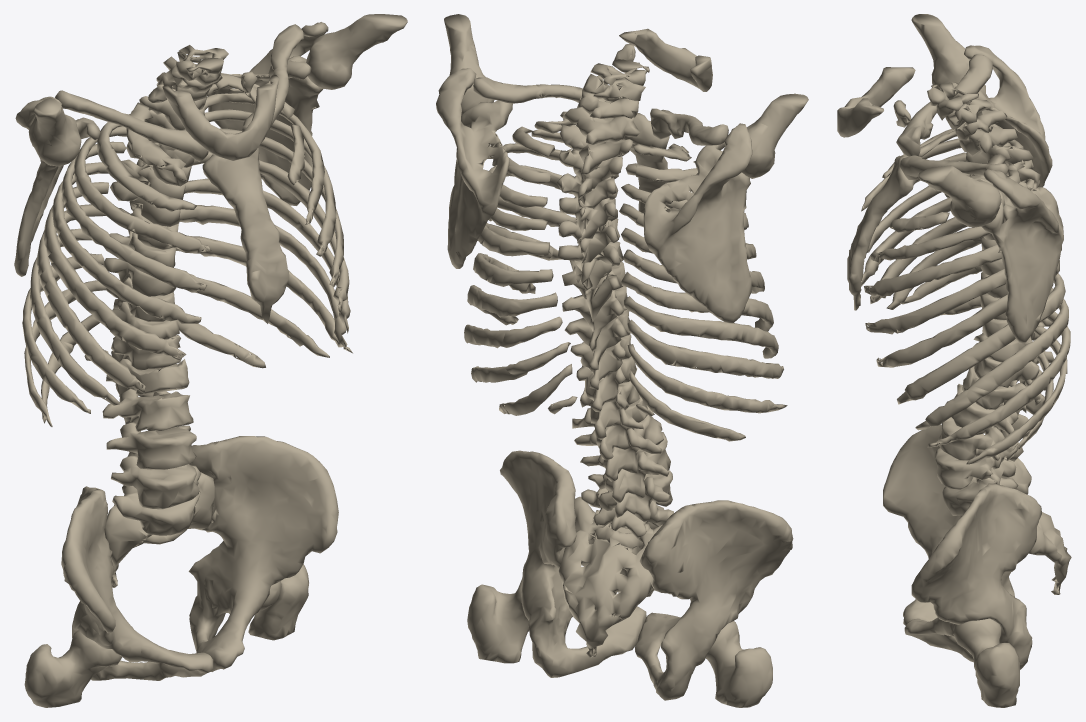
Rendered from tsd_s0196_older_adult_female.skeletal.LOD3.glb.
3 renders of one model, left to right at view 1: azimuth 30°, elevation 25°; view 2: azimuth 150°, elevation 25°; view 3: azimuth 270°, elevation 25°, orthographic. The views are drawn at different scales.
Visible parts, largest first — view 1: TSD_S0196.OLDER_ADULT.FEMALE.SKELETAL.HIP_BONE_OS_COXAE.L, TSD_S0196.OLDER_ADULT.FEMALE.SKELETAL.HIP_BONE_OS_COXAE.R, TSD_S0196.OLDER_ADULT.FEMALE.SKELETAL.STERNUM, TSD_S0196.OLDER_ADULT.FEMALE.SKELETAL.SCAPULA.L, TSD_S0196.OLDER_ADULT.FEMALE.SKELETAL.FEMUR.R, TSD_S0196.OLDER_ADULT.FEMALE.SKELETAL.SKULL, TSD_S0196.OLDER_ADULT.FEMALE.SKELETAL.HUMERUS.L, TSD_S0196.OLDER_ADULT.FEMALE.SKELETAL.RIB_6.R, TSD_S0196.OLDER_ADULT.FEMALE.SKELETAL.RIB_5.R, TSD_S0196.OLDER_ADULT.FEMALE.SKELETAL.RIB_7.R, TSD_S0196.OLDER_ADULT.FEMALE.SKELETAL.RIB_4.R, TSD_S0196.OLDER_ADULT.FEMALE.SKELETAL.SCAPULA.R (+37 smaller); view 2: TSD_S0196.OLDER_ADULT.FEMALE.SKELETAL.HIP_BONE_OS_COXAE.R, TSD_S0196.OLDER_ADULT.FEMALE.SKELETAL.SCAPULA.R, TSD_S0196.OLDER_ADULT.FEMALE.SKELETAL.HIP_BONE_OS_COXAE.L, TSD_S0196.OLDER_ADULT.FEMALE.SKELETAL.SCAPULA.L, TSD_S0196.OLDER_ADULT.FEMALE.SKELETAL.SACRUM, TSD_S0196.OLDER_ADULT.FEMALE.SKELETAL.FEMUR.L, TSD_S0196.OLDER_ADULT.FEMALE.SKELETAL.FEMUR.R, TSD_S0196.OLDER_ADULT.FEMALE.SKELETAL.SKULL, TSD_S0196.OLDER_ADULT.FEMALE.SKELETAL.RIB_8.R, TSD_S0196.OLDER_ADULT.FEMALE.SKELETAL.RIB_9.R, TSD_S0196.OLDER_ADULT.FEMALE.SKELETAL.HUMERUS.R, TSD_S0196.OLDER_ADULT.FEMALE.SKELETAL.RIB_10.R (+41 smaller); view 3: TSD_S0196.OLDER_ADULT.FEMALE.SKELETAL.HIP_BONE_OS_COXAE.L, TSD_S0196.OLDER_ADULT.FEMALE.SKELETAL.SCAPULA.L, TSD_S0196.OLDER_ADULT.FEMALE.SKELETAL.HIP_BONE_OS_COXAE.R, TSD_S0196.OLDER_ADULT.FEMALE.SKELETAL.SCAPULA.R, TSD_S0196.OLDER_ADULT.FEMALE.SKELETAL.FEMUR.L, TSD_S0196.OLDER_ADULT.FEMALE.SKELETAL.RIB_8.L, TSD_S0196.OLDER_ADULT.FEMALE.SKELETAL.HUMERUS.L, TSD_S0196.OLDER_ADULT.FEMALE.SKELETAL.RIB_7.L, TSD_S0196.OLDER_ADULT.FEMALE.SKELETAL.STERNUM, TSD_S0196.OLDER_ADULT.FEMALE.SKELETAL.SKULL, TSD_S0196.OLDER_ADULT.FEMALE.SKELETAL.RIB_9.L, TSD_S0196.OLDER_ADULT.FEMALE.SKELETAL.HUMERUS.R (+29 smaller).
Part boxes in pixels (box(x1,y1,x2,y2)): TSD_S0196.OLDER_ADULT.FEMALE.SKELETAL.HIP_BONE_OS_COXAE.L: box(188, 436, 338, 671); TSD_S0196.OLDER_ADULT.FEMALE.SKELETAL.HIP_BONE_OS_COXAE.R: box(61, 486, 213, 680); TSD_S0196.OLDER_ADULT.FEMALE.SKELETAL.STERNUM: box(202, 148, 289, 323); TSD_S0196.OLDER_ADULT.FEMALE.SKELETAL.SCAPULA.L: box(208, 22, 328, 205); TSD_S0196.OLDER_ADULT.FEMALE.SKELETAL.FEMUR.R: box(24, 630, 122, 707); TSD_S0196.OLDER_ADULT.FEMALE.SKELETAL.SKULL: box(162, 71, 279, 160); TSD_S0196.OLDER_ADULT.FEMALE.SKELETAL.HUMERUS.L: box(306, 14, 407, 89); TSD_S0196.OLDER_ADULT.FEMALE.SKELETAL.RIB_6.R: box(44, 182, 186, 359); TSD_S0196.OLDER_ADULT.FEMALE.SKELETAL.RIB_5.R: box(52, 162, 201, 323); TSD_S0196.OLDER_ADULT.FEMALE.SKELETAL.RIB_7.R: box(36, 204, 145, 393); TSD_S0196.OLDER_ADULT.FEMALE.SKELETAL.RIB_4.R: box(61, 141, 206, 291); TSD_S0196.OLDER_ADULT.FEMALE.SKELETAL.SCAPULA.R: box(14, 96, 100, 276); TSD_S0196.OLDER_ADULT.FEMALE.SKELETAL.HIP_BONE_OS_COXAE.R: box(634, 500, 793, 700); TSD_S0196.OLDER_ADULT.FEMALE.SKELETAL.SCAPULA.R: box(643, 123, 752, 323); TSD_S0196.OLDER_ADULT.FEMALE.SKELETAL.HIP_BONE_OS_COXAE.L: box(500, 450, 646, 677); TSD_S0196.OLDER_ADULT.FEMALE.SKELETAL.SCAPULA.L: box(436, 68, 512, 268); TSD_S0196.OLDER_ADULT.FEMALE.SKELETAL.SACRUM: box(558, 496, 662, 657); TSD_S0196.OLDER_ADULT.FEMALE.SKELETAL.FEMUR.L: box(467, 578, 529, 663); TSD_S0196.OLDER_ADULT.FEMALE.SKELETAL.FEMUR.R: box(705, 621, 772, 707); TSD_S0196.OLDER_ADULT.FEMALE.SKELETAL.SKULL: box(614, 28, 712, 91); TSD_S0196.OLDER_ADULT.FEMALE.SKELETAL.RIB_8.R: box(623, 296, 778, 358); TSD_S0196.OLDER_ADULT.FEMALE.SKELETAL.RIB_9.R: box(627, 319, 783, 378); TSD_S0196.OLDER_ADULT.FEMALE.SKELETAL.HUMERUS.R: box(742, 93, 808, 178); TSD_S0196.OLDER_ADULT.FEMALE.SKELETAL.RIB_10.R: box(627, 344, 787, 413); TSD_S0196.OLDER_ADULT.FEMALE.SKELETAL.HIP_BONE_OS_COXAE.L: box(904, 483, 1041, 669); TSD_S0196.OLDER_ADULT.FEMALE.SKELETAL.SCAPULA.L: box(974, 169, 1063, 343); TSD_S0196.OLDER_ADULT.FEMALE.SKELETAL.HIP_BONE_OS_COXAE.R: box(883, 424, 1031, 625); TSD_S0196.OLDER_ADULT.FEMALE.SKELETAL.SCAPULA.R: box(948, 45, 1052, 187); TSD_S0196.OLDER_ADULT.FEMALE.SKELETAL.FEMUR.L: box(953, 618, 1019, 707); TSD_S0196.OLDER_ADULT.FEMALE.SKELETAL.RIB_8.L: box(915, 288, 1068, 430); TSD_S0196.OLDER_ADULT.FEMALE.SKELETAL.HUMERUS.L: box(918, 165, 1001, 227); TSD_S0196.OLDER_ADULT.FEMALE.SKELETAL.RIB_7.L: box(897, 273, 1065, 404); TSD_S0196.OLDER_ADULT.FEMALE.SKELETAL.STERNUM: box(847, 155, 916, 310); TSD_S0196.OLDER_ADULT.FEMALE.SKELETAL.SKULL: box(837, 67, 915, 137); TSD_S0196.OLDER_ADULT.FEMALE.SKELETAL.RIB_9.L: box(927, 311, 1070, 447); TSD_S0196.OLDER_ADULT.FEMALE.SKELETAL.HUMERUS.R: box(911, 14, 970, 89).
Bounding box in the file's own units: 0.3492 × 0.5512 × 0.2083.
